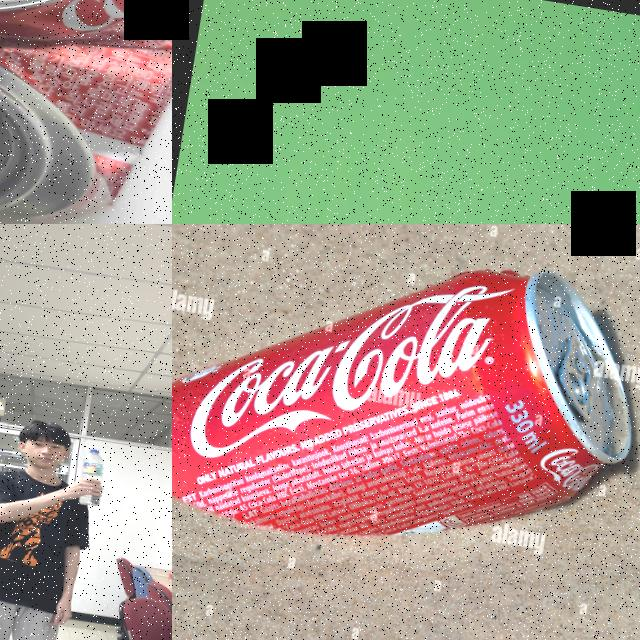bottle: (75, 448, 108, 508)
can: (172, 224, 640, 597)
